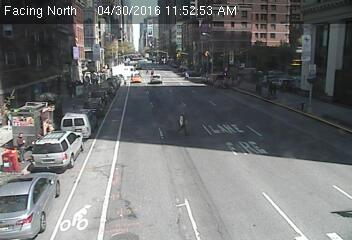neg: (80, 167, 103, 198), (168, 190, 190, 219), (279, 18, 300, 46), (107, 135, 125, 159), (283, 173, 300, 196), (130, 86, 147, 109), (217, 150, 233, 172), (96, 80, 112, 102), (299, 144, 315, 164), (237, 80, 252, 100), (237, 20, 252, 40), (298, 91, 312, 110), (138, 128, 152, 146), (259, 129, 272, 147), (185, 17, 198, 34), (243, 183, 253, 196)
pos: (8, 132, 33, 165), (172, 107, 192, 134), (148, 66, 157, 78), (182, 71, 189, 81), (144, 68, 149, 75)
